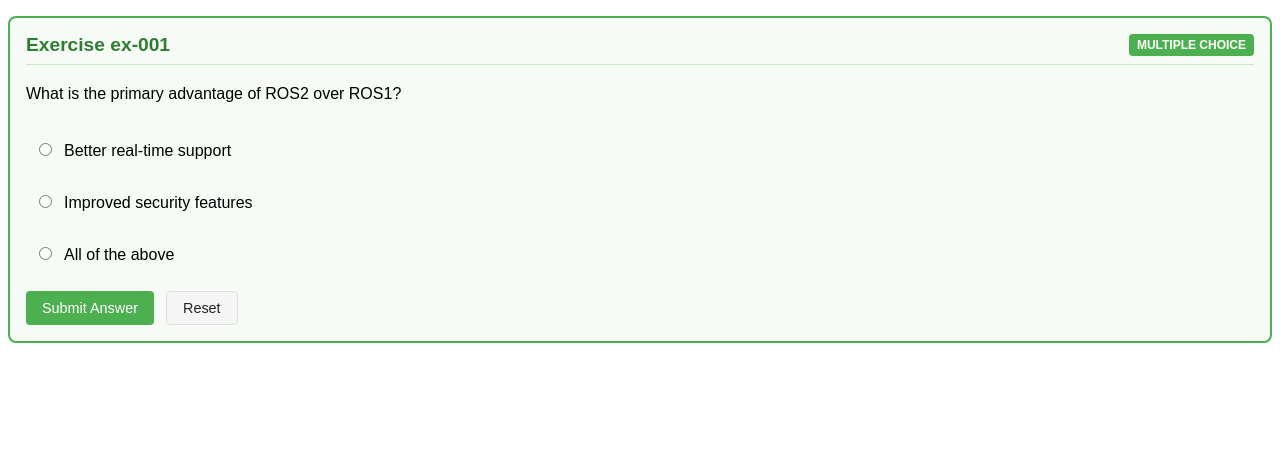
Test: Exercise Component › submits answer and shows feedback
Click the radio button labelled "Better real-time support": [46, 149] box [39,143,52,156]
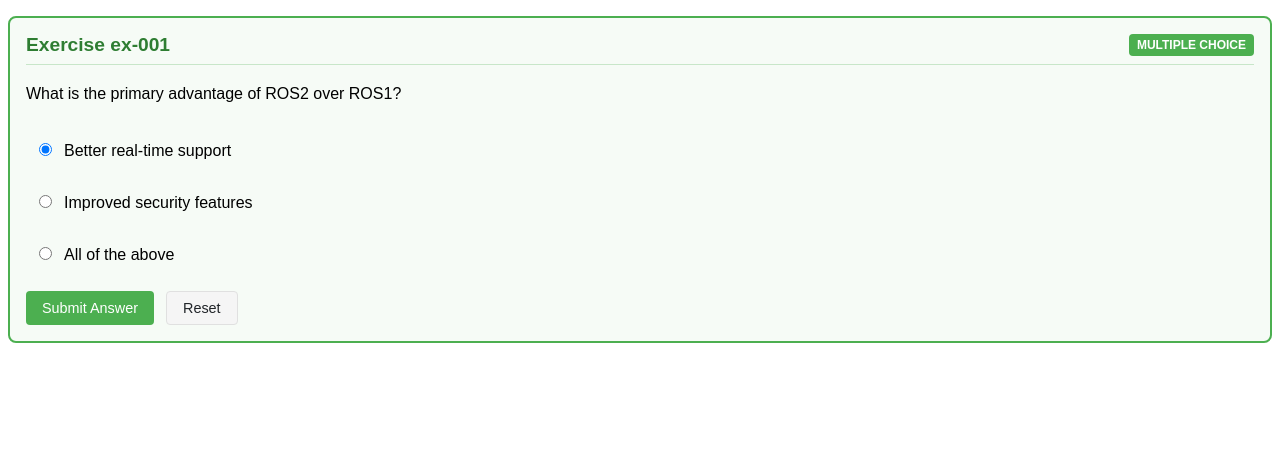
Click the button "Submit Answer": [90, 308] box [26,291,154,325]
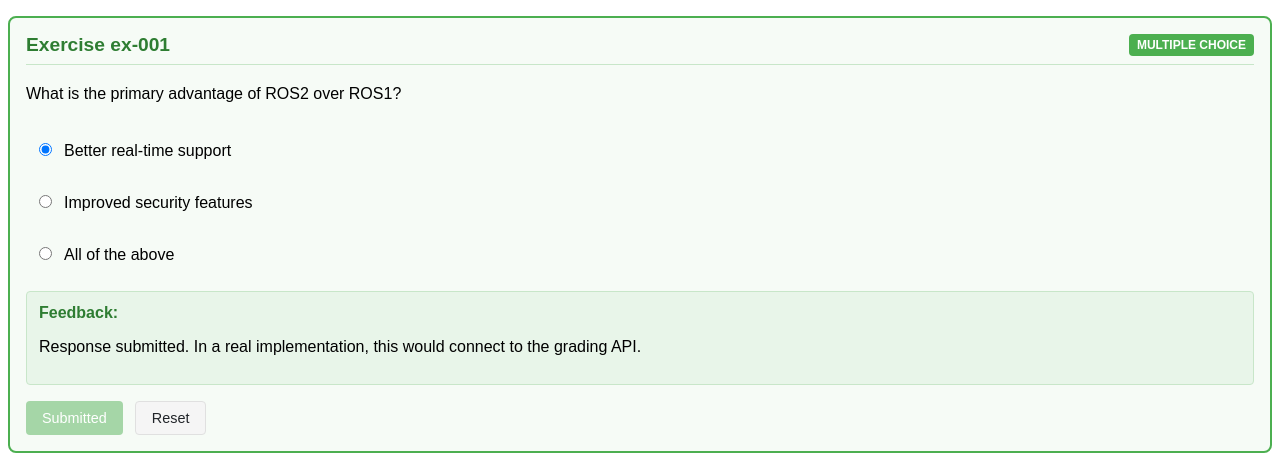
Expected: the button "Submit Answer" is disabled, [26,401,123,435]
Expected: the text "Response submitted. In a real implementation, this would connect to the grading API." is shown, [39,338,641,355]
